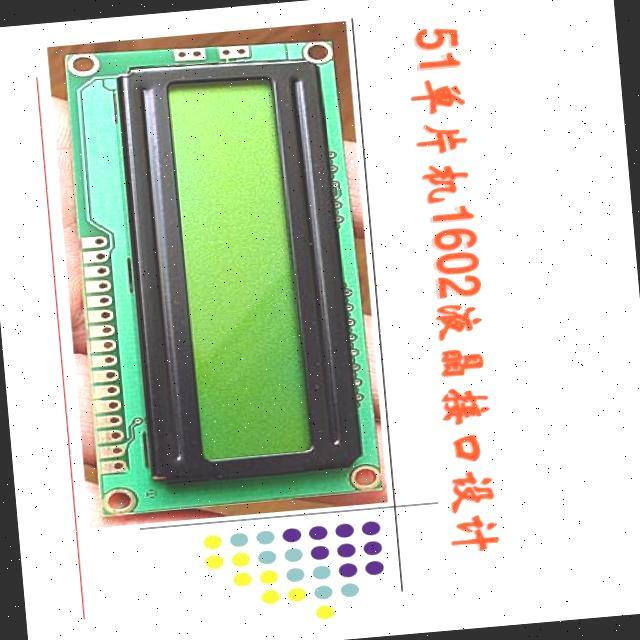lcd: (61, 26, 386, 518)
